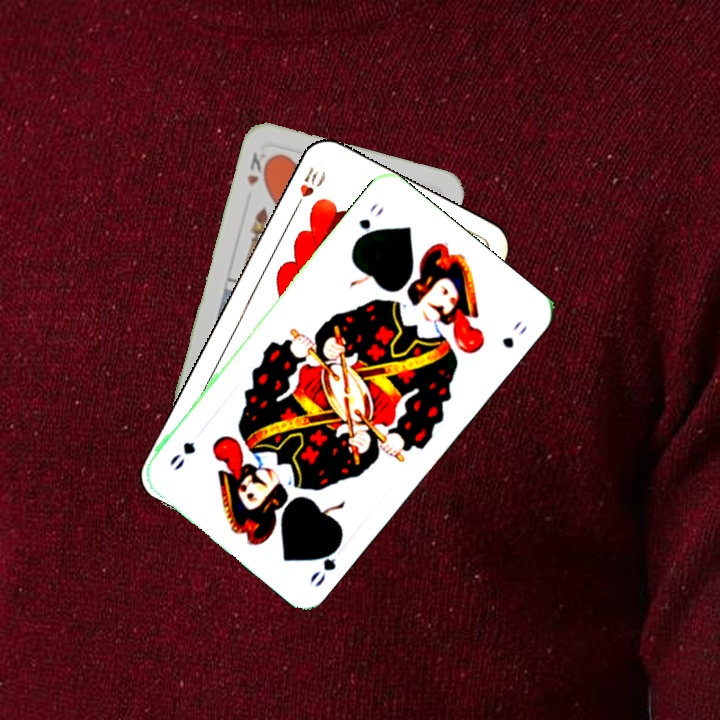GO: (306, 536, 345, 590), (350, 199, 387, 247)
H10: (289, 163, 329, 214)
HK: (243, 148, 274, 188)
